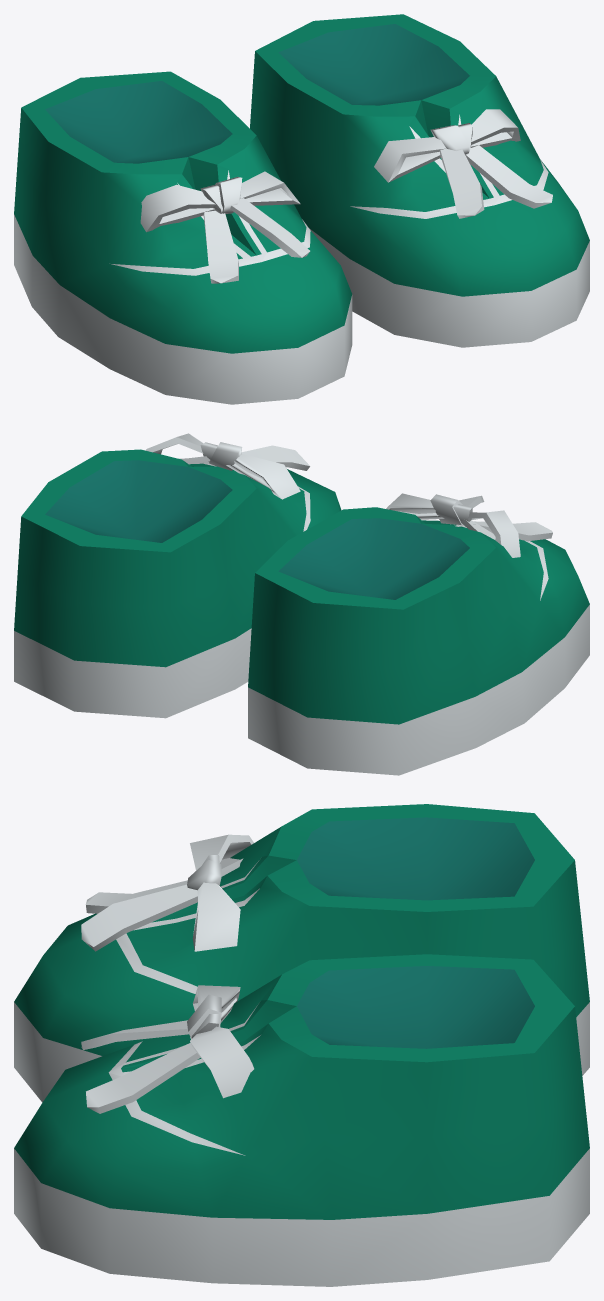
File: Shoes_2.fbx
3 renders of one model, top to bottom at view 1: azimuth 30°, elevation 25°; view 2: azimuth 150°, elevation 25°; view 3: azimuth 270°, elevation 25°, orthographic. The views are drawn at different scales.
Parts seen in each view (by area): view 1: Shoes_2; view 2: Shoes_2; view 3: Shoes_2.
Boxes of the visible parts, x1,y1,x2,y2 form: Shoes_2: [14, 14, 589, 404]; Shoes_2: [14, 433, 589, 775]; Shoes_2: [14, 804, 589, 1286].
Size of the model in its own units: 40.39 by 13.43 by 33.59.
